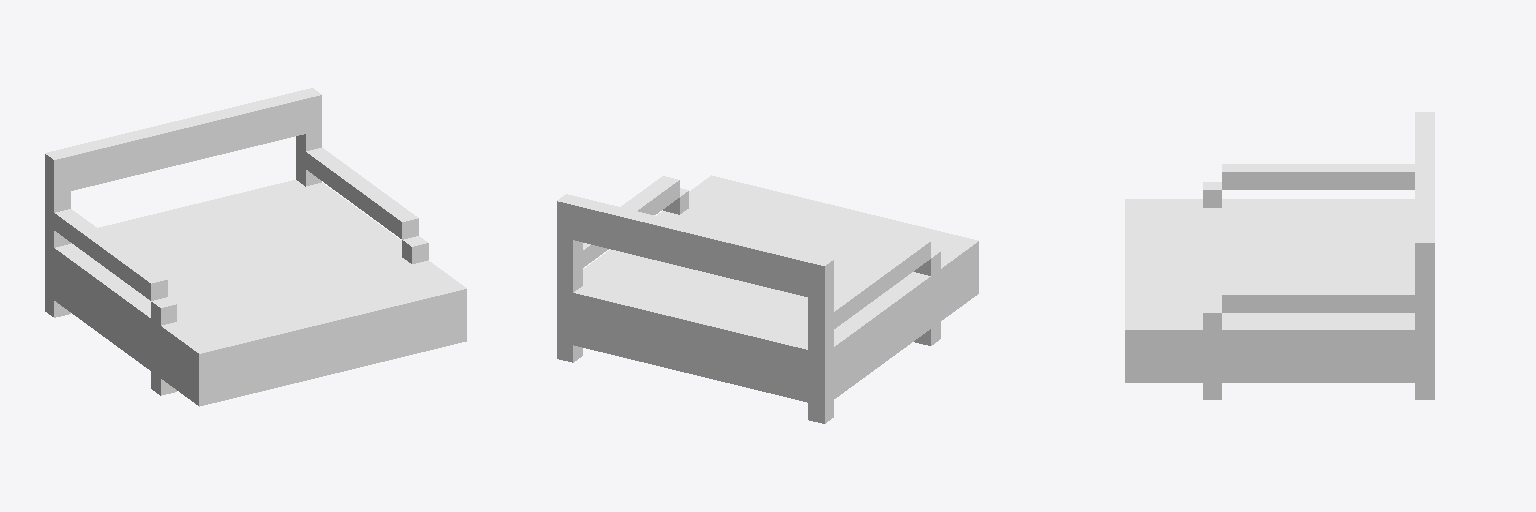
The model's file is chair0.obj.
The picture shows the model from 3 angles: view 1: azimuth 30°, elevation 25°; view 2: azimuth 150°, elevation 25°; view 3: azimuth 270°, elevation 25°; orthographic projection.
Size of the model in its own units: 0.8 by 0.45 by 0.8.